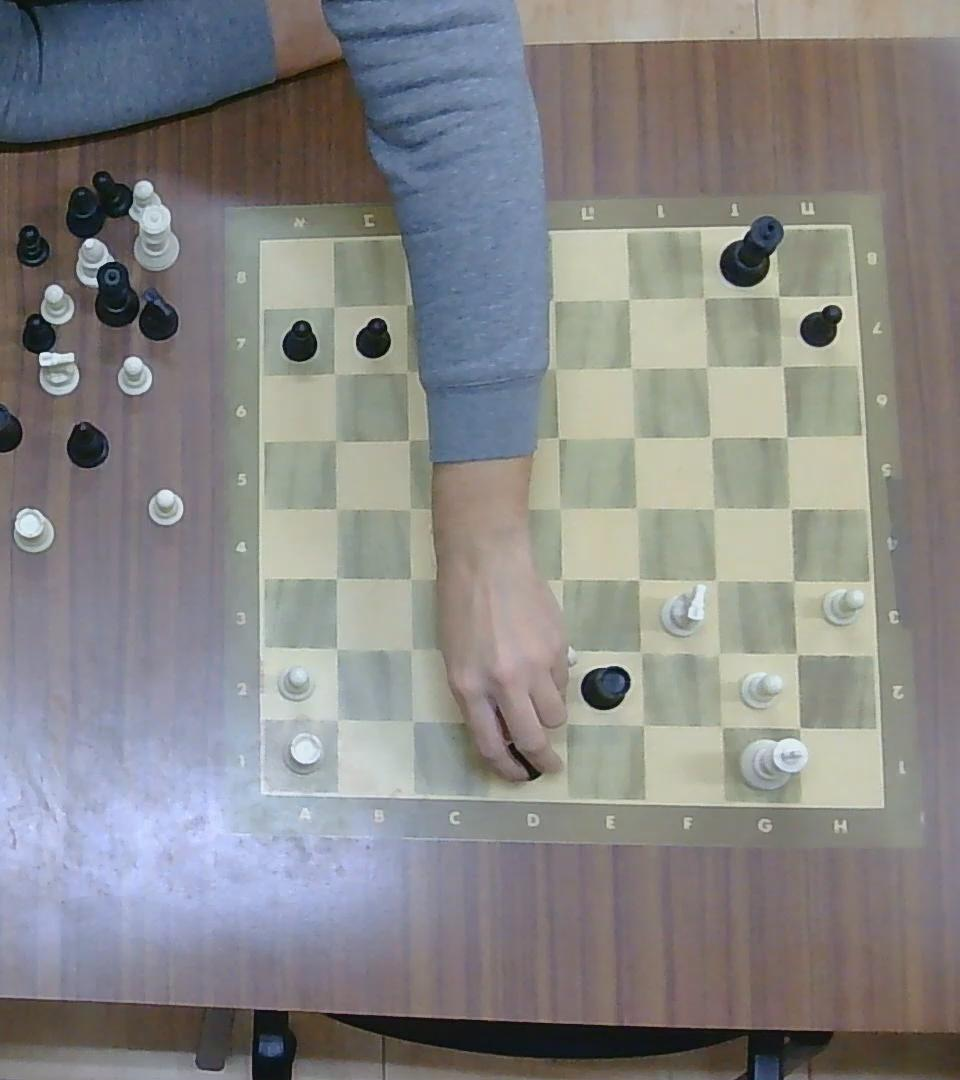xcorner: (776, 563, 810, 597), (781, 710, 815, 743), (626, 705, 658, 739), (549, 705, 581, 739), (537, 350, 571, 382), (702, 636, 734, 669), (625, 634, 656, 668), (705, 708, 736, 742), (320, 701, 351, 735), (780, 637, 812, 669), (700, 564, 731, 596), (537, 282, 568, 314), (622, 562, 652, 594), (545, 635, 575, 667), (698, 492, 728, 523), (320, 561, 350, 592), (394, 563, 424, 594), (776, 492, 806, 523), (548, 562, 577, 594), (471, 635, 500, 667), (471, 564, 500, 596), (472, 704, 501, 736), (397, 705, 427, 735), (615, 281, 644, 312), (622, 492, 651, 523), (321, 632, 350, 663), (616, 350, 645, 381), (691, 281, 720, 312), (467, 286, 495, 318), (393, 423, 422, 453), (395, 634, 424, 664), (619, 420, 648, 450), (470, 494, 499, 524), (547, 492, 575, 523), (692, 351, 721, 380), (320, 358, 349, 387), (767, 351, 796, 380), (765, 282, 794, 311), (543, 422, 572, 451), (470, 423, 498, 453), (321, 424, 349, 453), (395, 493, 423, 522), (323, 493, 351, 522), (319, 291, 348, 319), (393, 289, 421, 318), (471, 352, 497, 383), (392, 355, 420, 383), (772, 421, 801, 448), (698, 421, 725, 449)
